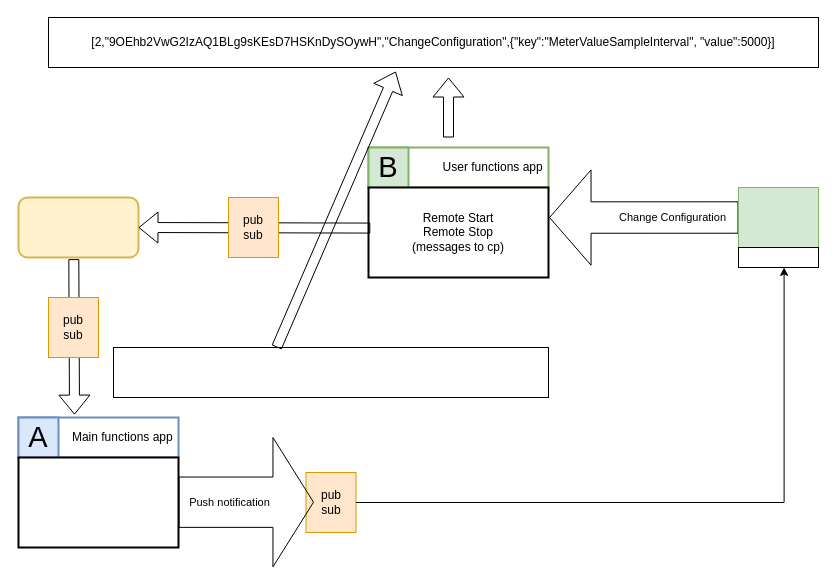
The diagram is 836 pixels wide and 585 high, and some of its shapes have lost their labels. The centre of each missing label's shape, as x and y in pixels:
[3,"9OEhb2VwG2IzAQ1BLg9sKEsD7HSKnDySOywH","{"Status":"Accepted"}]: point (330, 372)
Charging Station: point (78, 227)
Connect Disconnected Message(from cp): point (98, 502)
notification: point (778, 257)
USER: point (778, 217)
